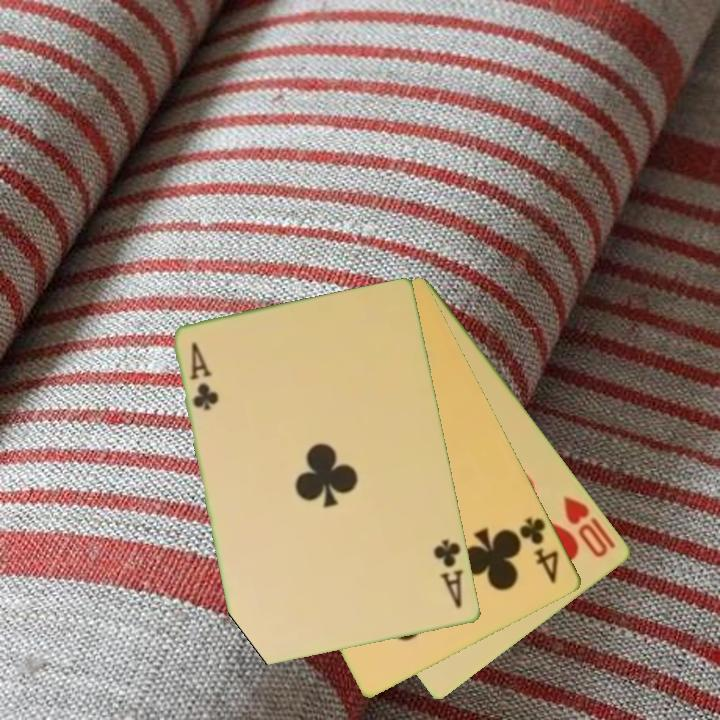10h: (560, 492, 612, 561)
4c: (516, 513, 562, 587)
Ac: (430, 536, 467, 612), (187, 339, 222, 414)
